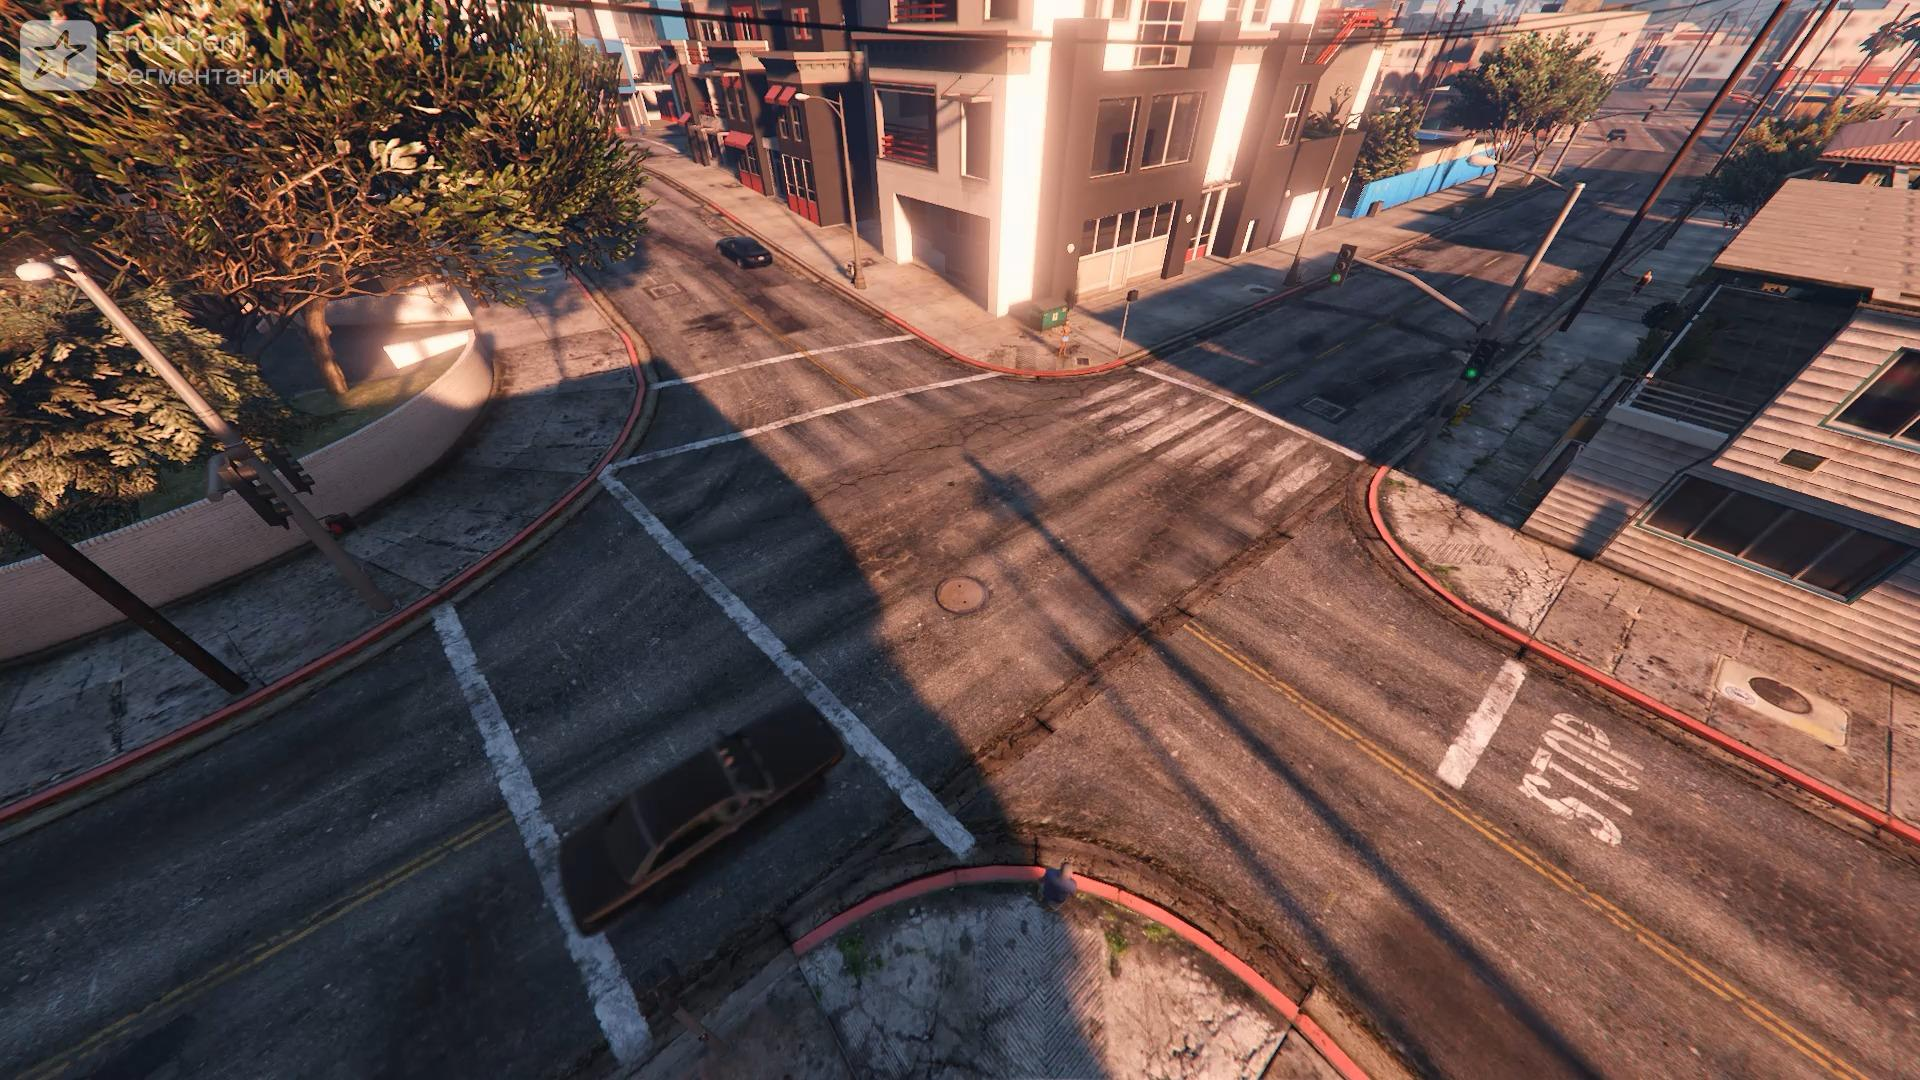car: (551, 705, 841, 932), (716, 235, 774, 269), (1606, 128, 1627, 141)
